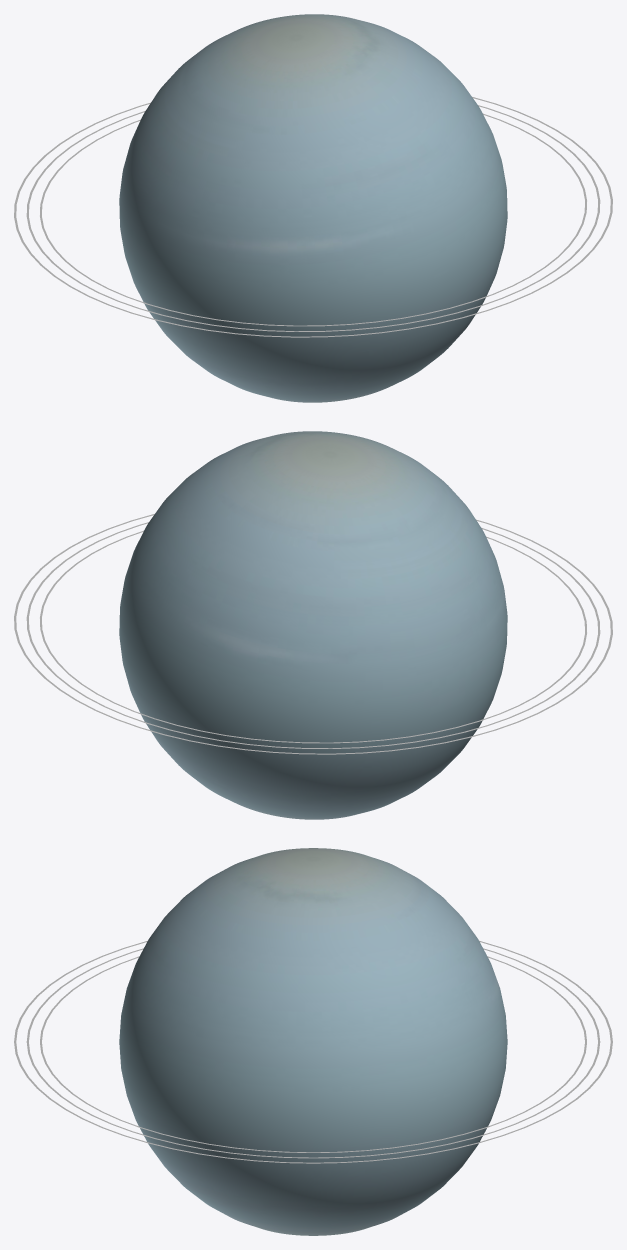
Rendered from Uranus.glb.
3 renders of one model, top to bottom at view 1: azimuth 30°, elevation 25°; view 2: azimuth 150°, elevation 25°; view 3: azimuth 270°, elevation 25°, orthographic.
Visible parts, largest first — view 1: Sphere_Material.002_0, Circle_ring_0, Circle.001_ring_0, Circle.002_ring_0; view 2: Sphere_Material.002_0, Circle_ring_0, Circle.001_ring_0, Circle.002_ring_0; view 3: Sphere_Material.002_0, Circle_ring_0, Circle.001_ring_0, Circle.002_ring_0.
Boxes of the visible parts, x1,y1,x2,y2 form: Sphere_Material.002_0: (119,14,507,402); Circle_ring_0: (14,97,612,337); Circle.001_ring_0: (26,105,600,331); Circle.002_ring_0: (40,113,586,326); Sphere_Material.002_0: (119,431,507,819); Circle_ring_0: (14,514,612,754); Circle.001_ring_0: (26,522,600,748); Circle.002_ring_0: (40,530,586,743); Sphere_Material.002_0: (119,848,507,1235); Circle_ring_0: (14,940,612,1163); Circle.001_ring_0: (26,948,600,1158); Circle.002_ring_0: (40,956,586,1152).
Size of the model in its own units: 308 by 200 by 308.
2 materials, 1 textured.
